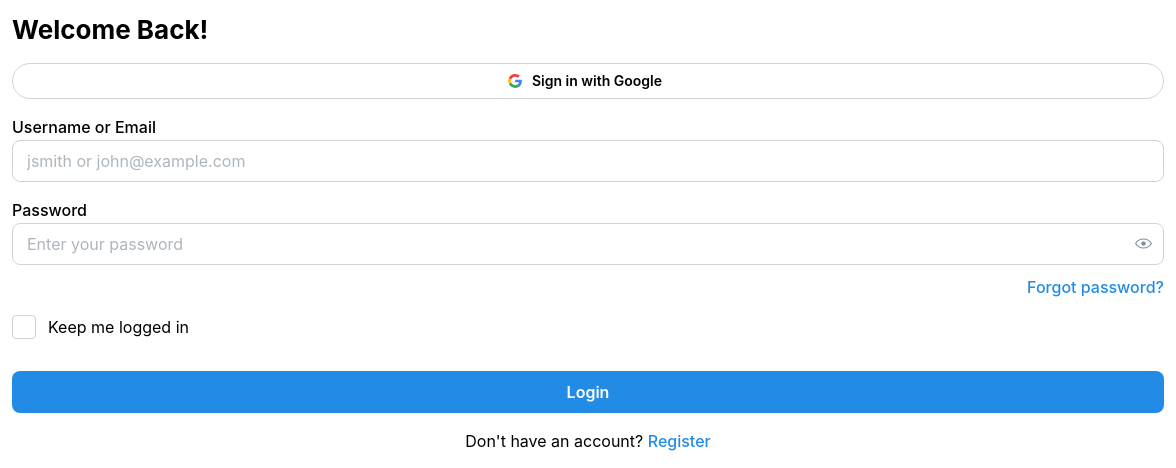
Test case: LoginForm › Google Button Functionality › Shows loading state when Google button is clicked
This screenshot has width=1176, height=468.
Note: Click the Google Sign-In button
Click the button "Sign in with Google".
click(588, 81)  # box [12,63,1164,99]
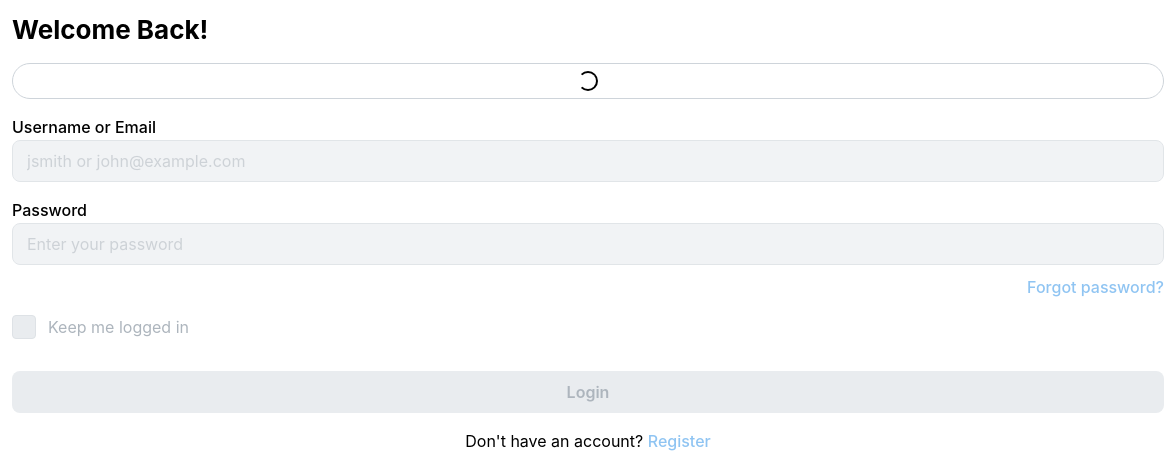
Expected: the button named "Sign in with Google" is disabled, [12,63,1164,99]
